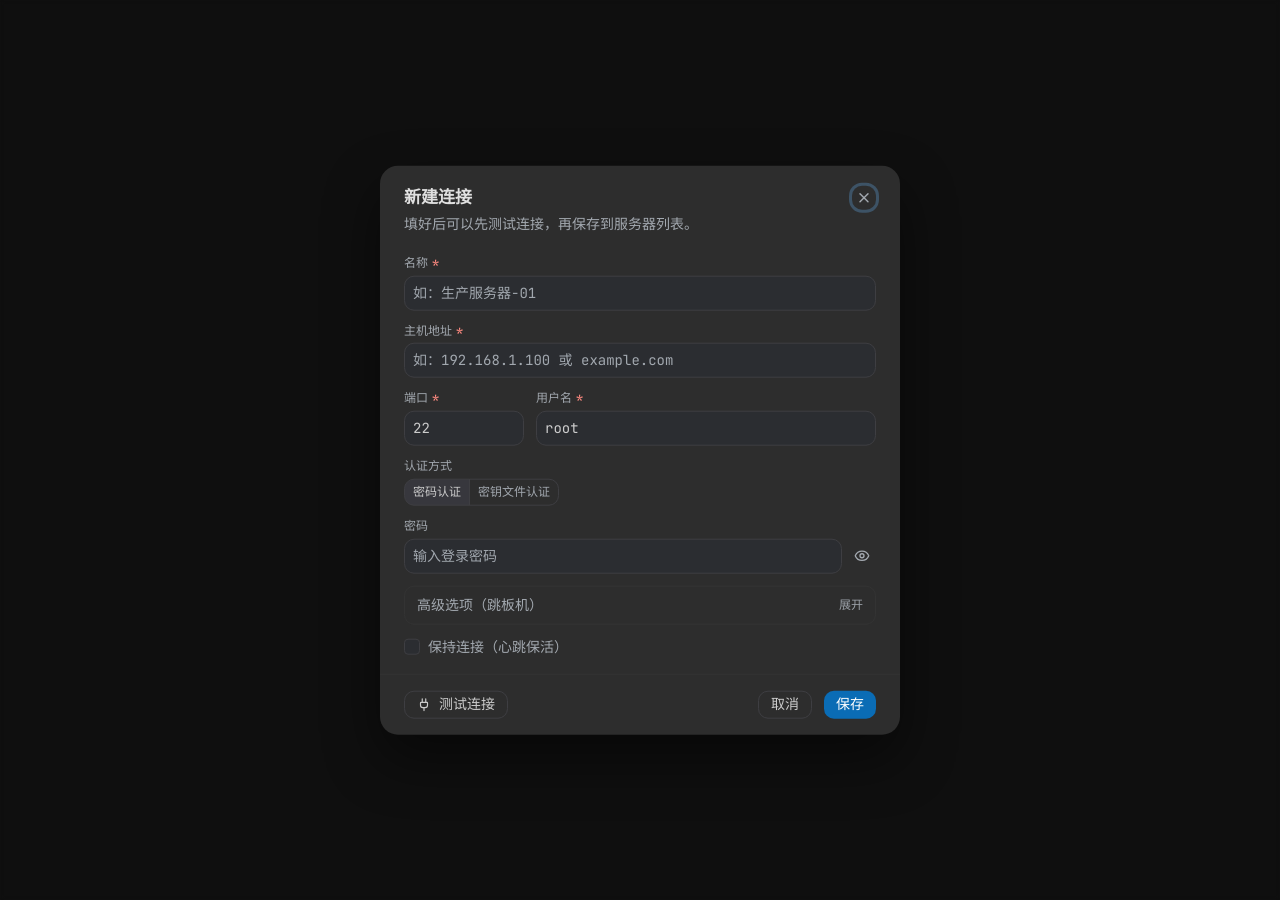
Scenario: ConnectDialog › 端口越界拦下来（不给主进程送 70000 这种端口）
The width and height of the screenshot is (1280, 900).
In the field labelled "名称 *": [640, 293] box [404,275,876,310], type "web-01"
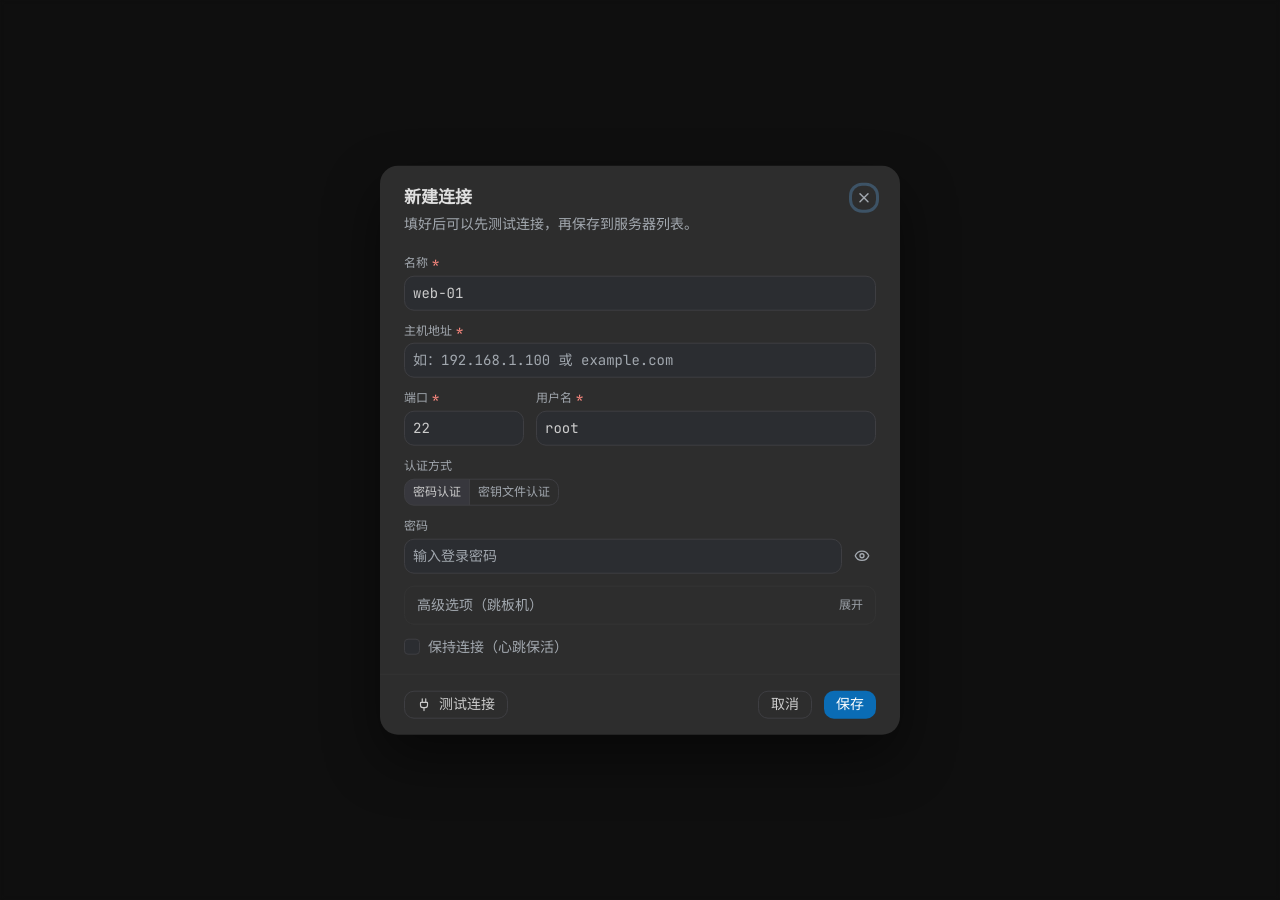
In the field labelled "主机地址 *": [640, 361] box [404,343,876,378], type "10.0.0.8"
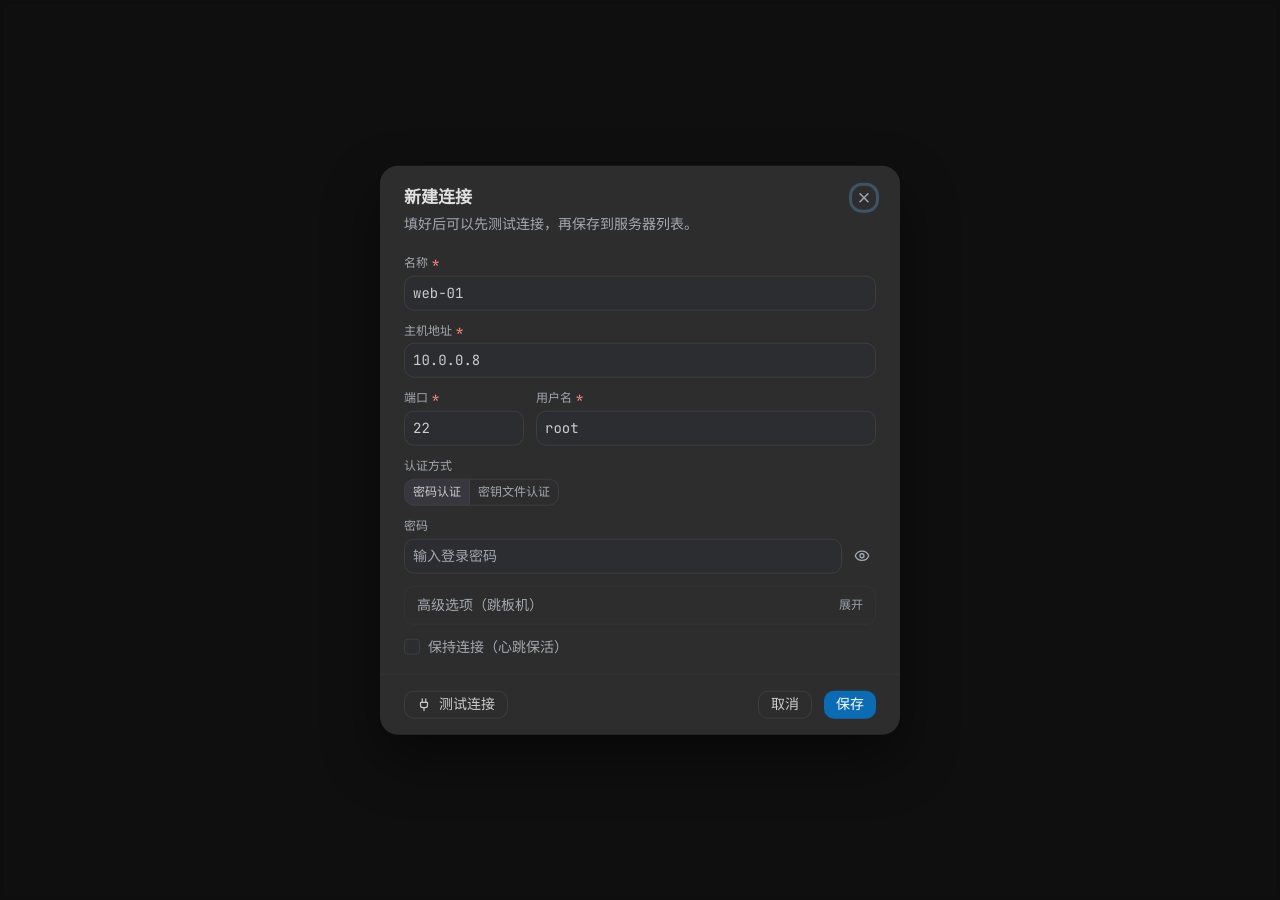
Replace the text in the number field labelled "端口 *" with "70000": [464, 428] box [404,411,524,446]
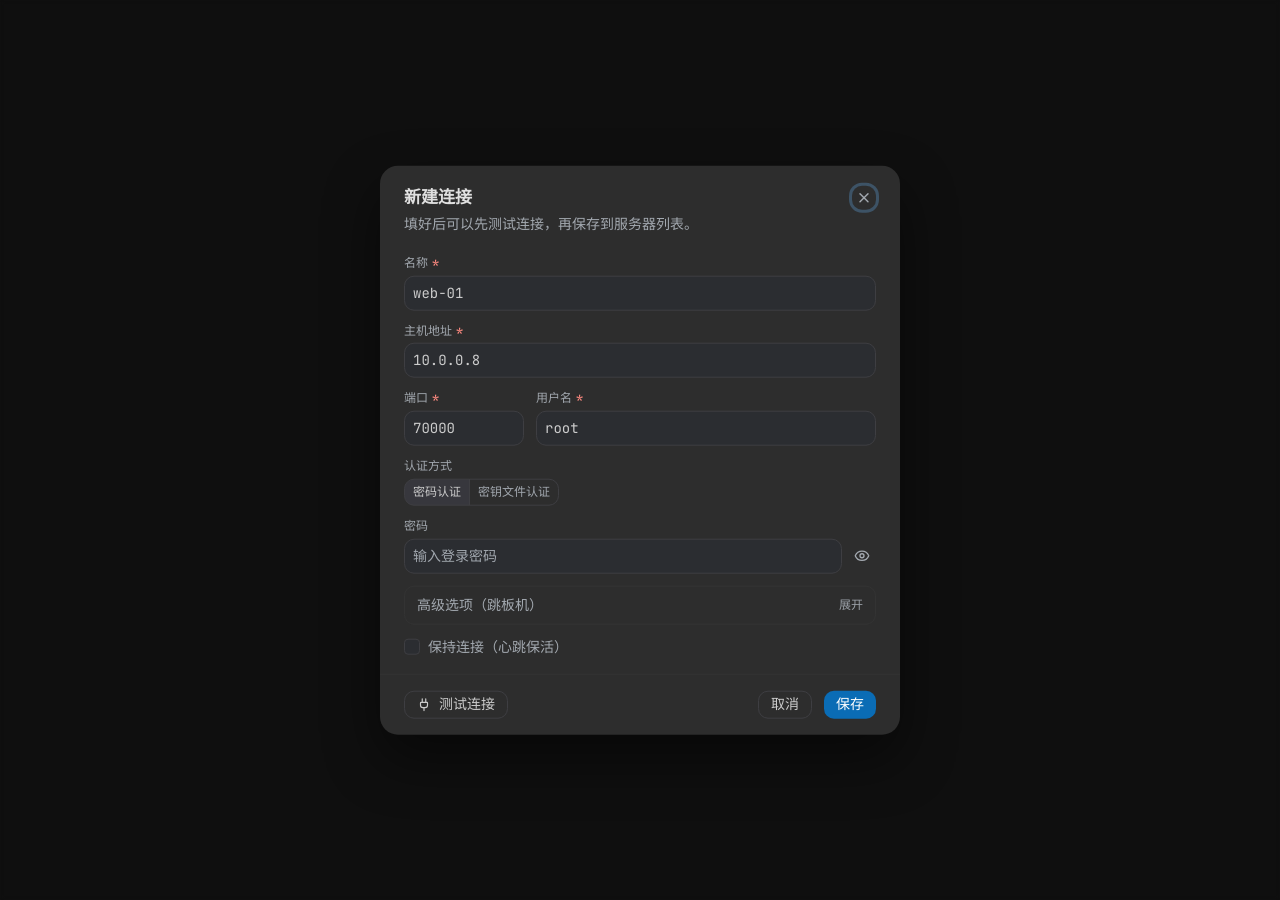
Click the button "保存": [850, 704] box [824,690,876,718]
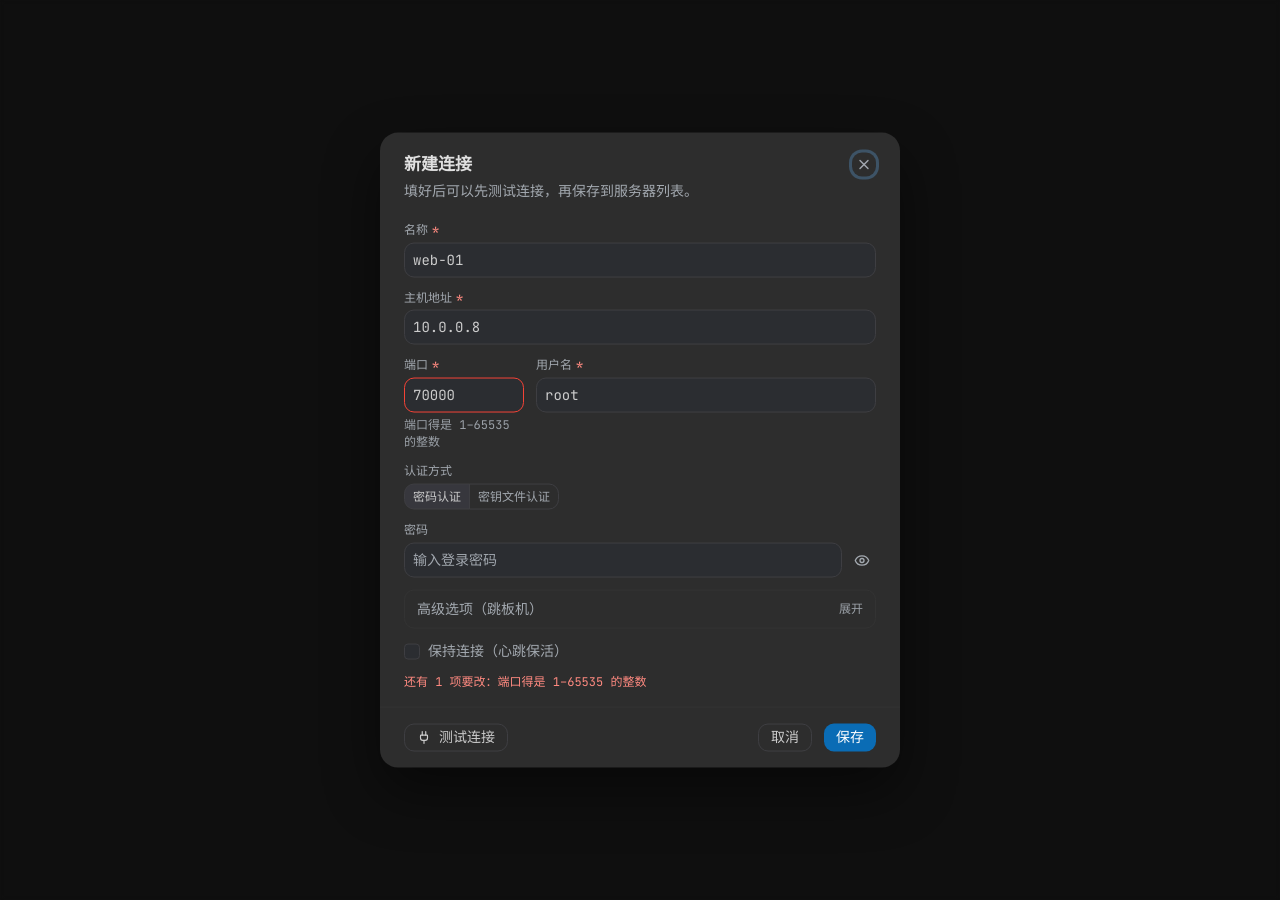
Expected: the text "端口得是 1–65535 的整数" is shown, [404,417,524,450]
